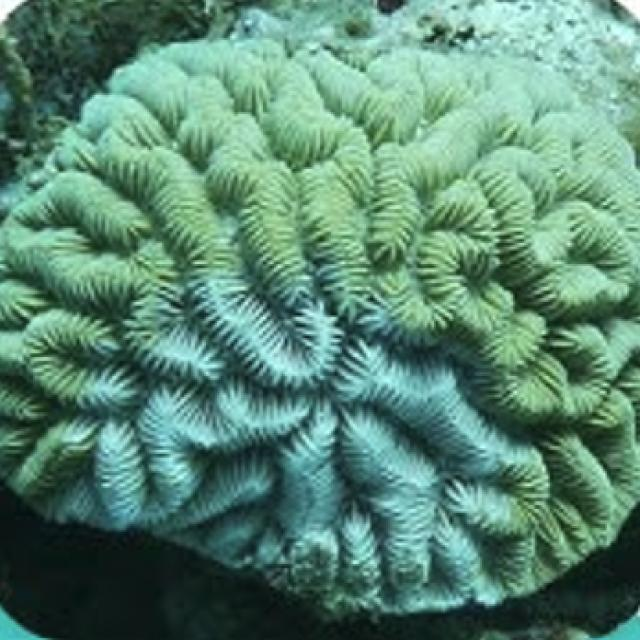Coral: (0, 35, 640, 622)
